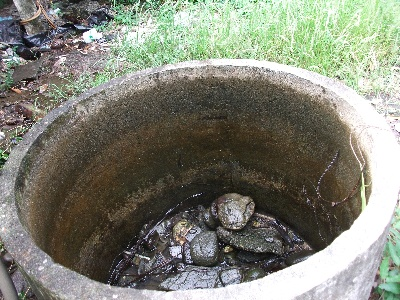bowl: (1, 57, 400, 299)
